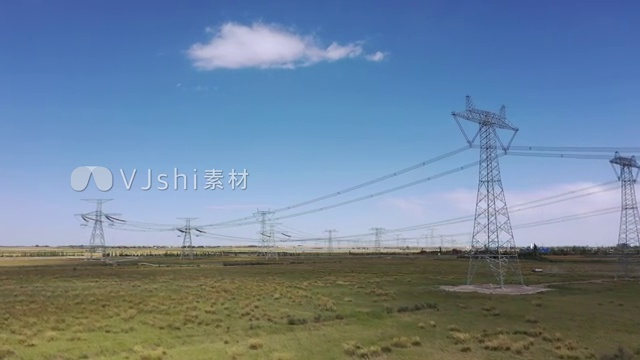tower_body: (449, 93, 532, 293), (606, 148, 640, 259)
tower_foot: (468, 241, 525, 289), (615, 221, 640, 255)
tower_head: (451, 95, 520, 133), (609, 151, 640, 186)
